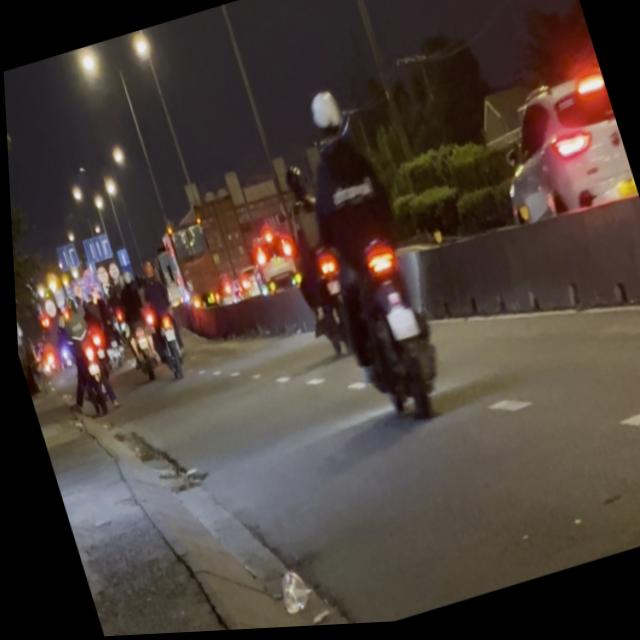helmet: (301, 87, 349, 150)
licenseplate: (271, 72, 460, 437)
nohelmet: (380, 306, 417, 345)
